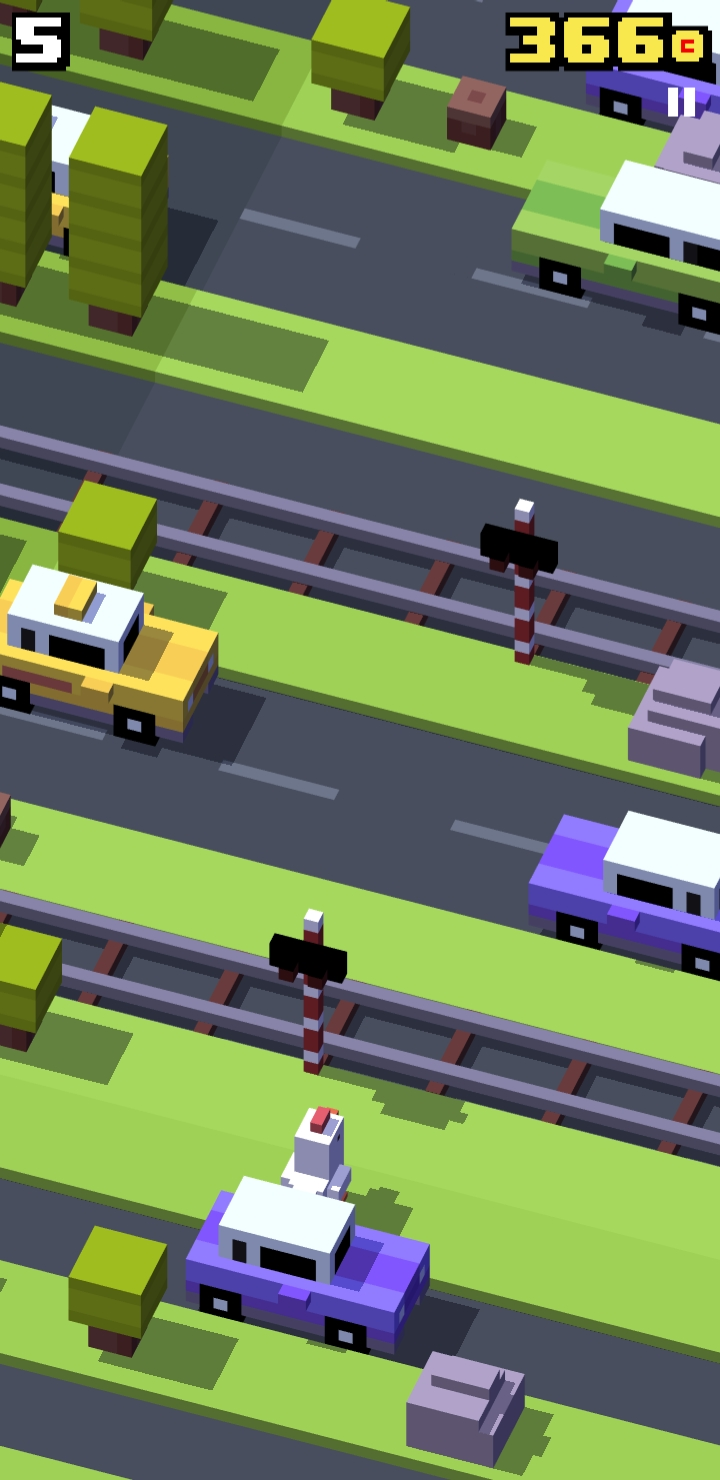car: (178, 1167, 438, 1358), (1, 559, 225, 750), (510, 803, 720, 989), (509, 156, 720, 329), (1, 101, 158, 261), (574, 7, 720, 118)
duck: (278, 1103, 359, 1227)
rock: (398, 1347, 530, 1469), (625, 647, 720, 779), (650, 107, 720, 214)
tree: (59, 103, 170, 350), (58, 1219, 170, 1365), (52, 481, 165, 619), (307, 1, 418, 129), (1, 85, 54, 314), (1, 919, 67, 1056), (87, 1, 181, 70)
